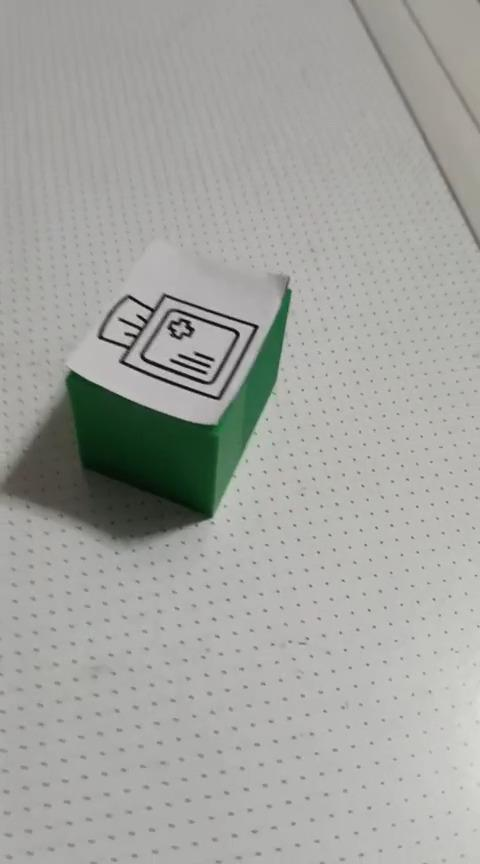Gauze: (63, 237, 292, 518)
